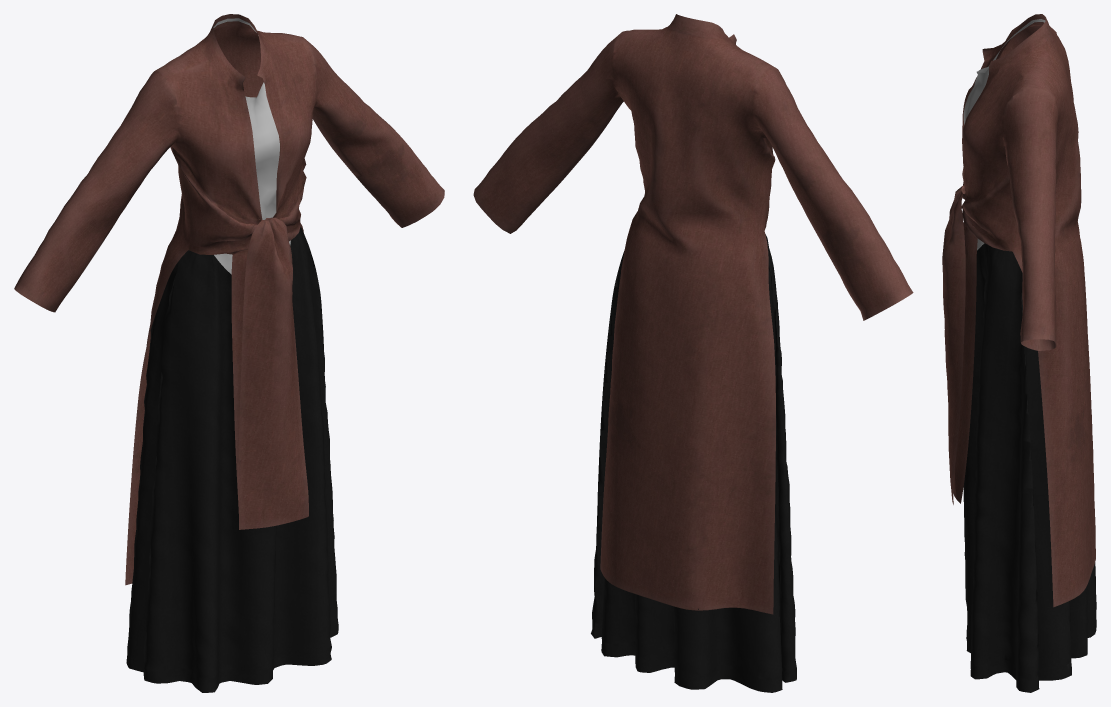
Rendered from four-part-dress.glb.
3 views of the same model, side by side, from view 1: azimuth 30°, elevation 25°; view 2: azimuth 150°, elevation 25°; view 3: azimuth 270°, elevation 25° (orthographic). The views are drawn at different scales.
Visible parts, largest first — view 1: soften_normals6; view 2: soften_normals6; view 3: soften_normals6.
Part boxes in pixels (x1,y1,x2,y2): soften_normals6: (14,14,444,692); soften_normals6: (473,14,913,692); soften_normals6: (942,14,1096,692).
Bounding box in the file's own units: 1.06 × 1.52 × 0.3384.
Materials: 1 (1 with a texture image).
